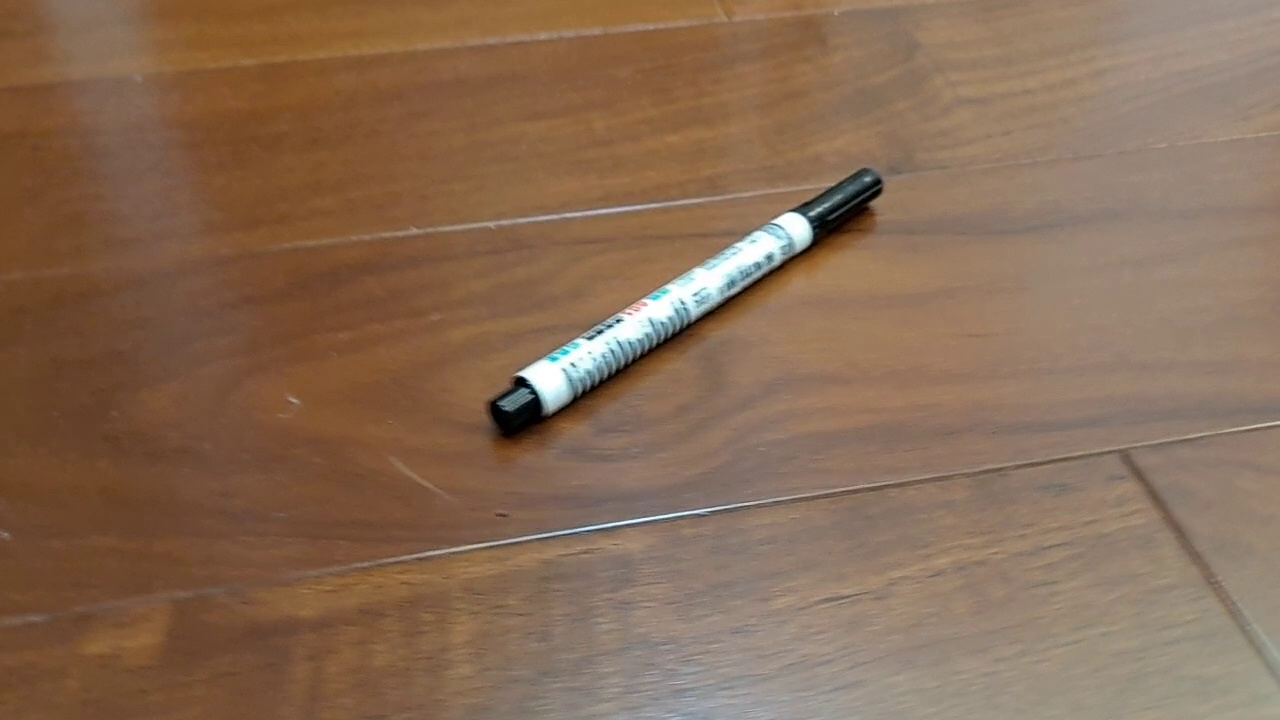pen: (487, 167, 885, 439)
